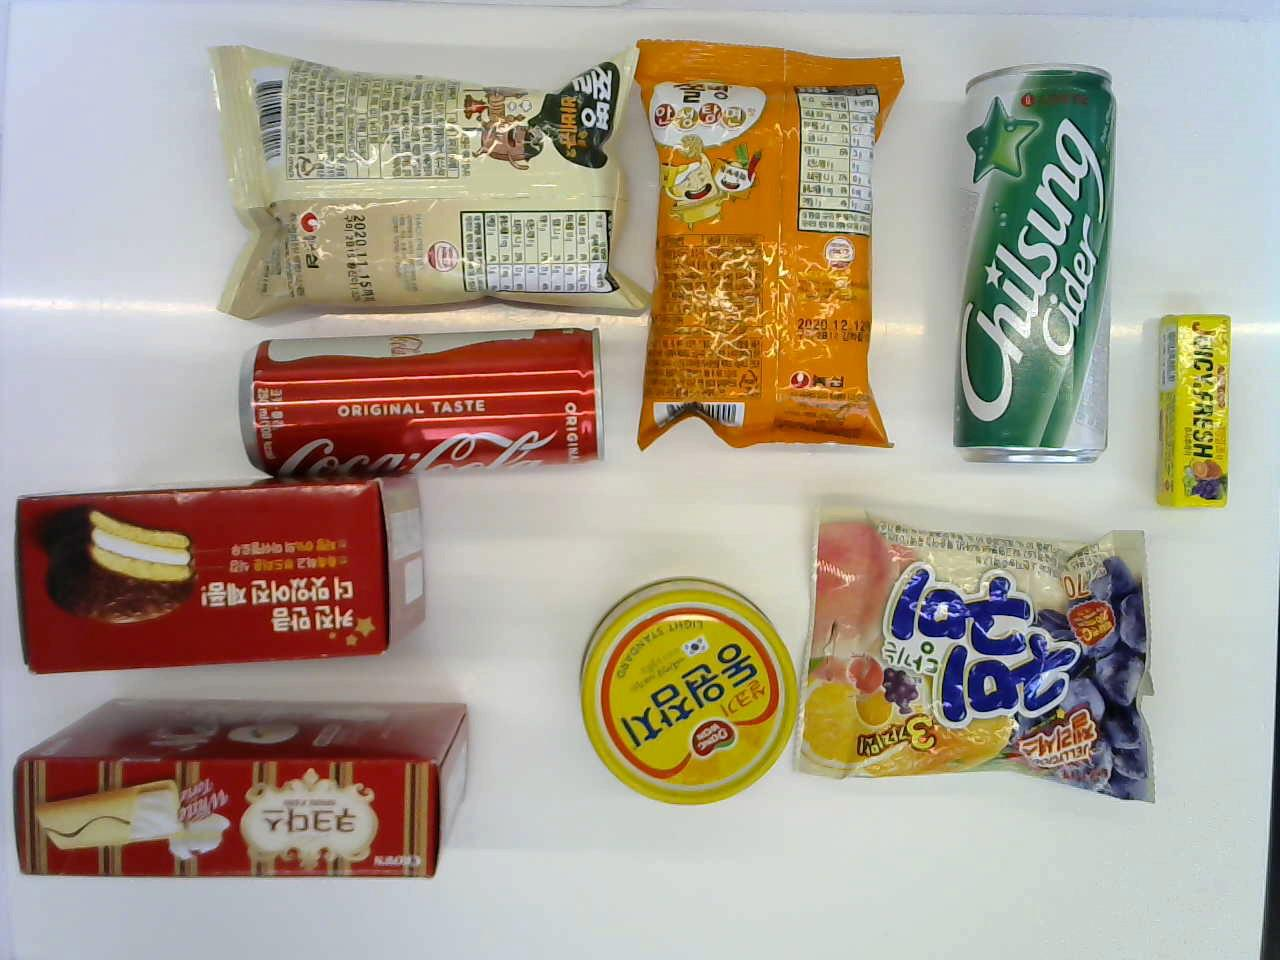chocopie: (2, 482, 440, 672)
cidar: (934, 53, 1129, 459)
coke: (226, 321, 601, 472)
couque_white: (10, 688, 474, 895)
gumi_gumi: (806, 489, 1166, 811)
jjolbyung_noodle: (611, 45, 925, 451)
jjolbyung_ori: (200, 44, 639, 316)
juicyfresh: (1154, 293, 1236, 519)
tuna: (558, 571, 796, 818)
